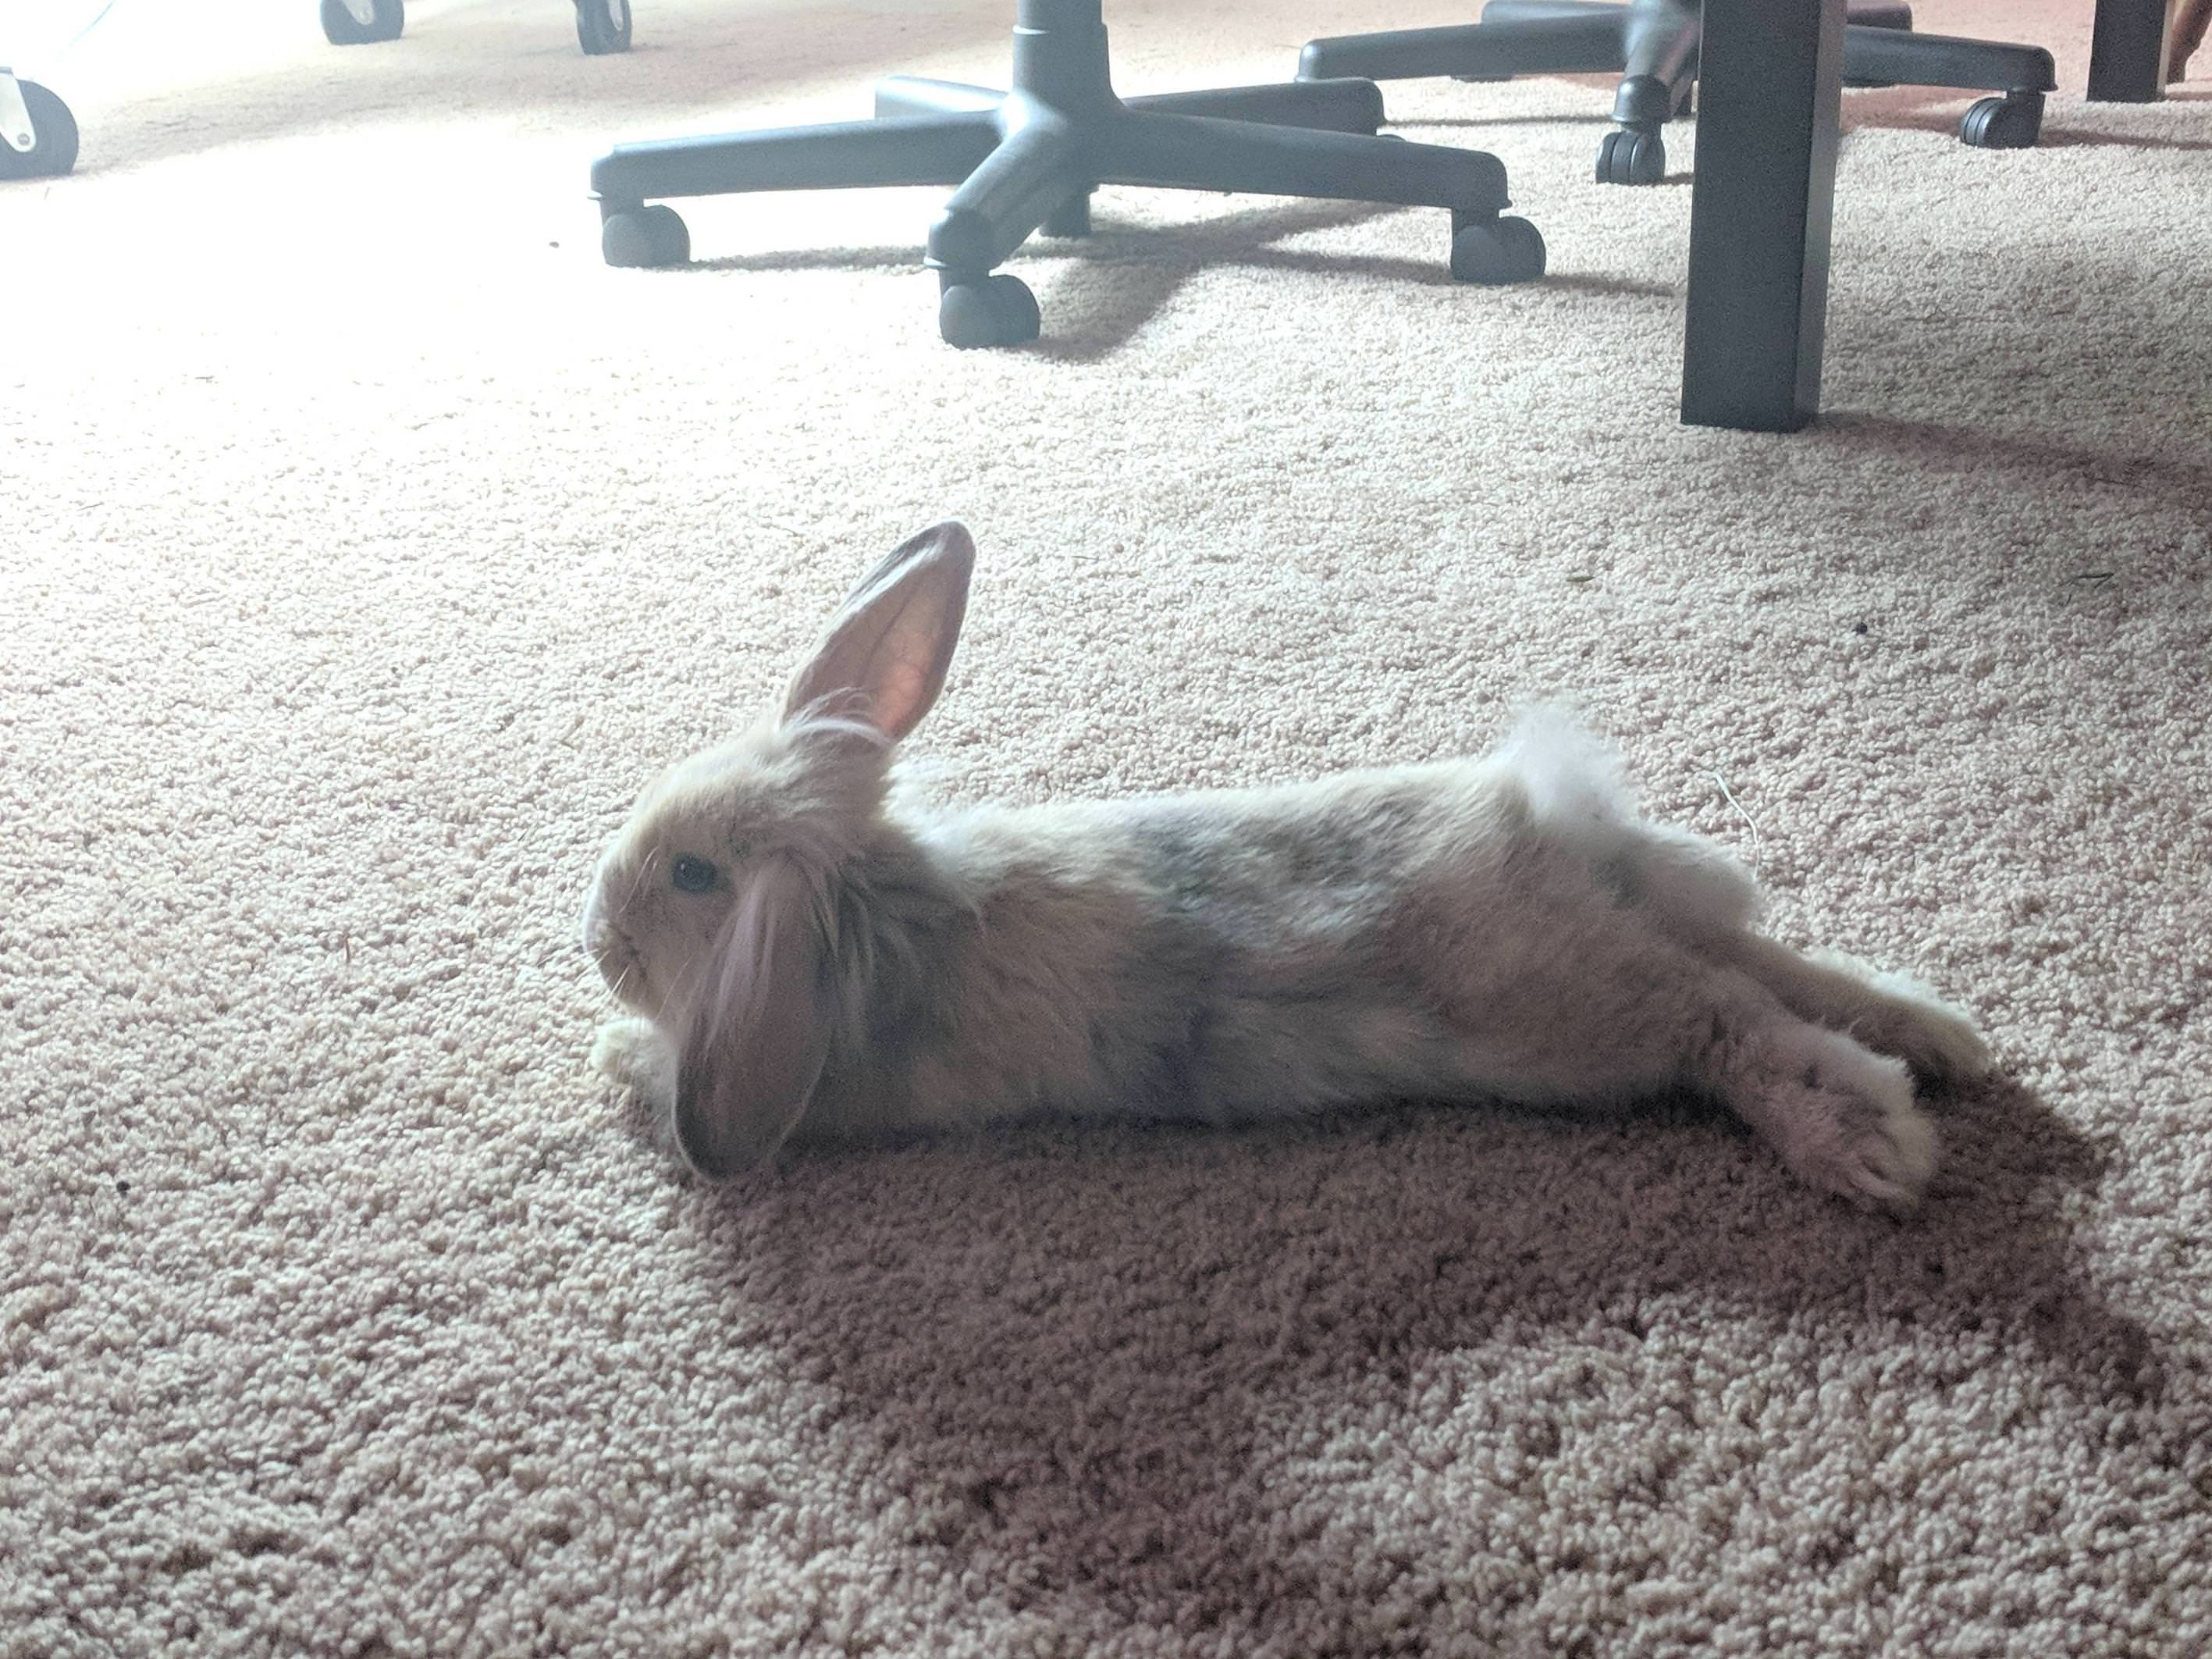bunny: (545, 493, 2135, 1351)
